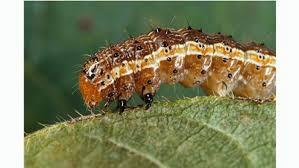fallarmy_worm: (70, 19, 276, 117)
